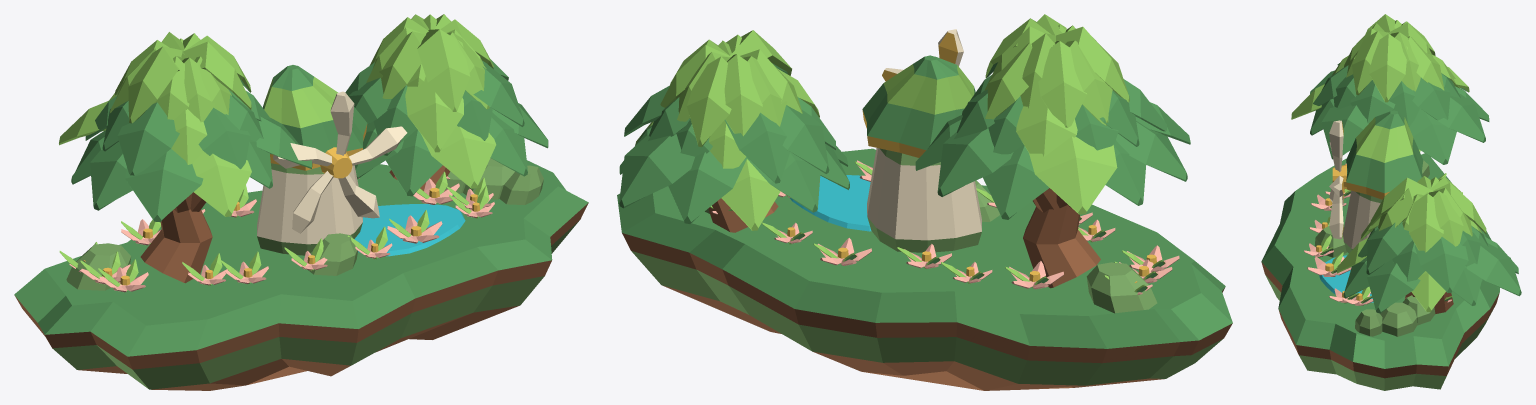
Rendered from verdant.glb.
3 renders of one model, left to right at view 1: azimuth 30°, elevation 25°; view 2: azimuth 150°, elevation 25°; view 3: azimuth 270°, elevation 25°, orthographic. The views are drawn at different scales.
Visible parts, largest first — view 1: terrace-verdant, windwheel; view 2: terrace-verdant, windwheel; view 3: terrace-verdant, windwheel.
Boxes of the visible parts, x1,y1,x2,y2 form: terrace-verdant: (14,14,588,390); windwheel: (273,91,407,233); terrace-verdant: (617,14,1232,390); windwheel: (882,29,963,81); terrace-verdant: (1261,14,1521,390); windwheel: (1329,120,1346,239).
Size of the model in its own units: 4.71 by 2.77 by 2.48.
